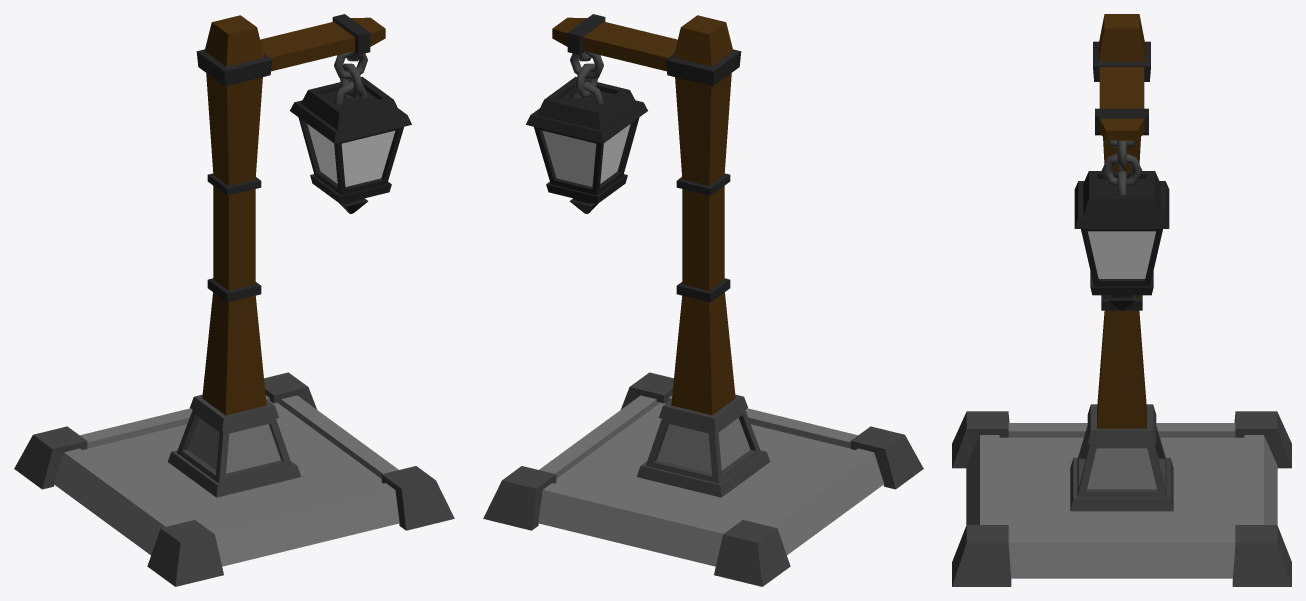
The model's file is Lanterne Full.fbx.
3 views of the same model, side by side, from view 1: azimuth 30°, elevation 25°; view 2: azimuth 150°, elevation 25°; view 3: azimuth 270°, elevation 25° (orthographic). The views are drawn at different scales.
Visible parts, largest first — view 1: Cube; view 2: Cube; view 3: Cube.
Part boxes in pixels (box(x1,y1,x2,y2)): Cube: box(14, 14, 454, 586); Cube: box(483, 14, 923, 586); Cube: box(952, 14, 1291, 586).
Bounding box in the file's own units: 253 × 384 × 240.
